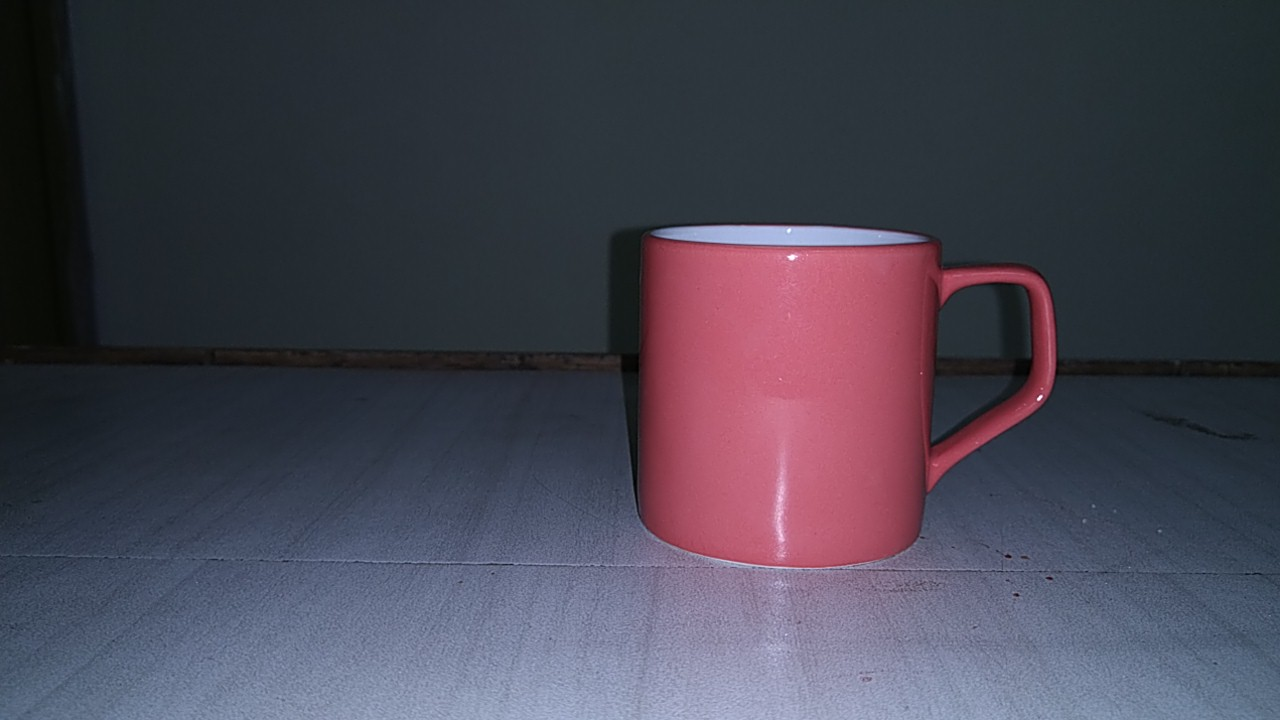cup: (614, 207, 1081, 591)
